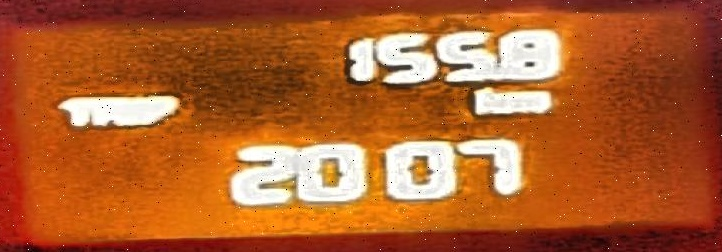0: (378, 137, 458, 202), (295, 140, 369, 203)
1: (343, 36, 375, 82)
2: (228, 142, 297, 206)
5: (435, 29, 496, 82), (376, 32, 437, 85)
7: (457, 136, 526, 197)
8: (494, 28, 563, 79)
X: (508, 87, 553, 114), (471, 85, 508, 116), (91, 95, 124, 128), (142, 94, 176, 126), (57, 96, 89, 128), (124, 94, 142, 129)
